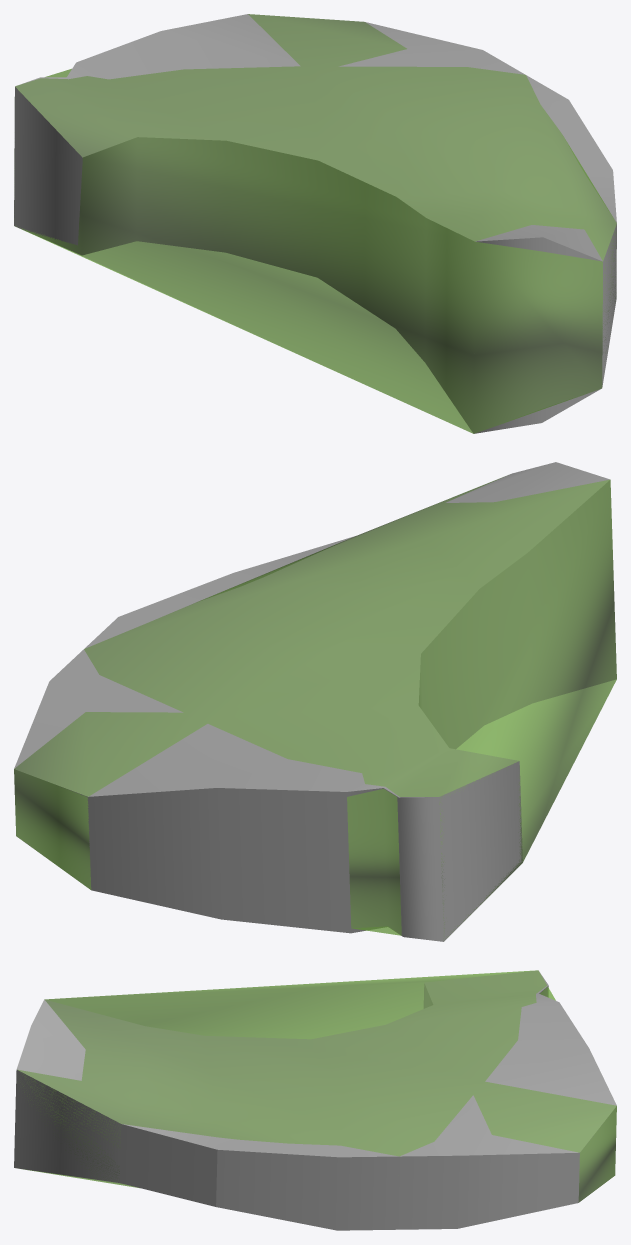
File: pg_Steak_06.fbx
The picture shows the model from 3 angles, top to bottom: view 1: azimuth 30°, elevation 25°; view 2: azimuth 150°, elevation 25°; view 3: azimuth 270°, elevation 25°; orthographic projection. The views are drawn at different scales.
Visible parts, largest first — view 1: pg_Steak_06_a_LOD0, pg_Steak_06_a_col; view 2: pg_Steak_06_a_LOD0, pg_Steak_06_a_col; view 3: pg_Steak_06_a_LOD0, pg_Steak_06_a_col.
Boxes of the visible parts, box(x1,y1,x2,y2) form: pg_Steak_06_a_LOD0: box(14, 14, 616, 433); pg_Steak_06_a_col: box(14, 14, 616, 433); pg_Steak_06_a_LOD0: box(14, 462, 616, 941); pg_Steak_06_a_col: box(14, 476, 616, 935); pg_Steak_06_a_LOD0: box(14, 970, 616, 1230); pg_Steak_06_a_col: box(18, 970, 616, 1202).
Size of what is drawn, in the model's own units: 16.96 by 7.07 by 25.64.
